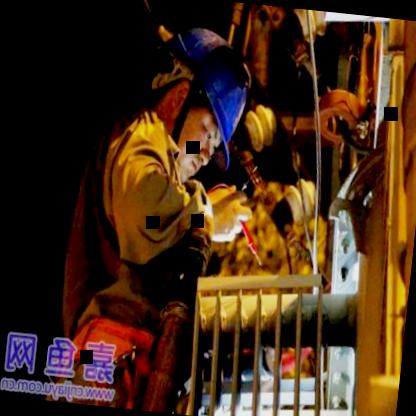helmet: (150, 21, 265, 187)
